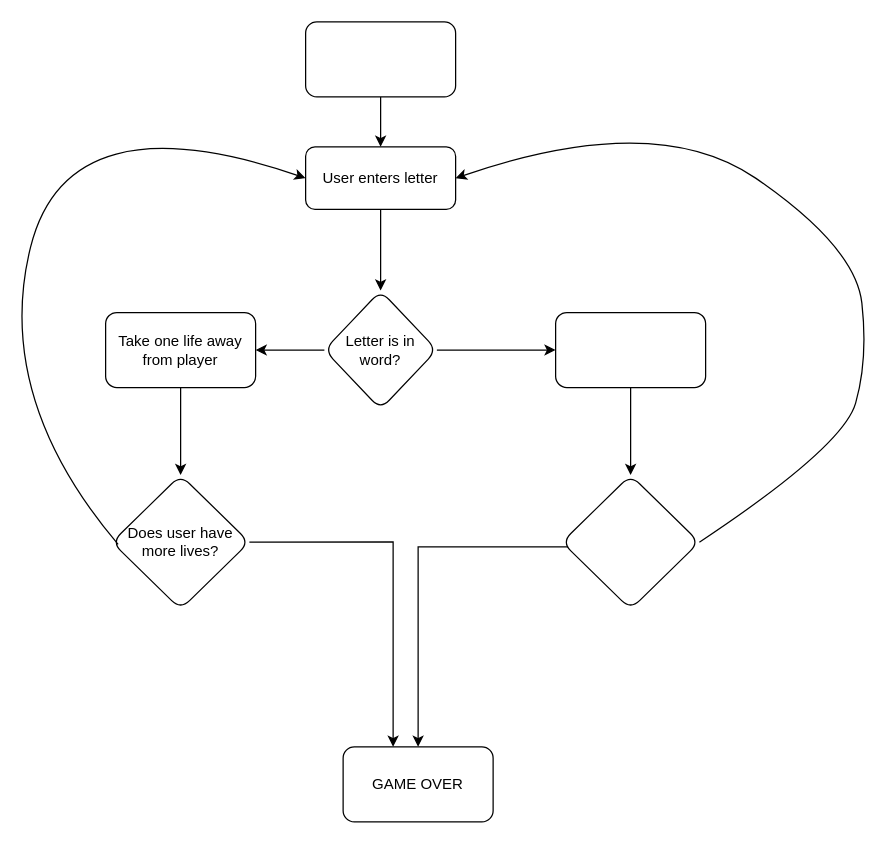
The diagram is 886 pixels wide and 844 high, and some of its shapes have lost their labels. Each missing label, with the centre of its shape:
"All letters shown?" goes at point 630,541.
"Show letter" goes at point 630,349.
"START" goes at point 380,59.
